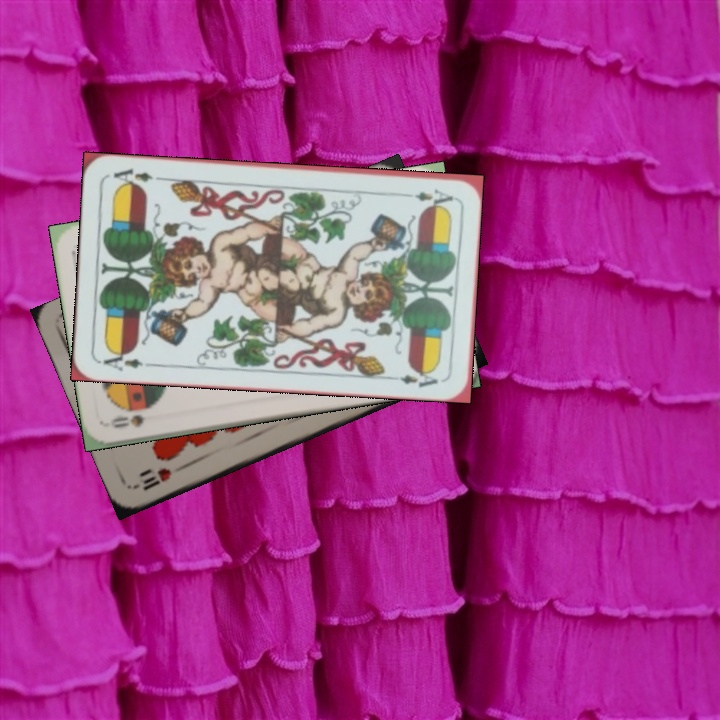EA: (97, 347, 156, 375), (397, 184, 456, 207)
H10: (139, 463, 174, 493)
SO: (107, 410, 147, 431)
